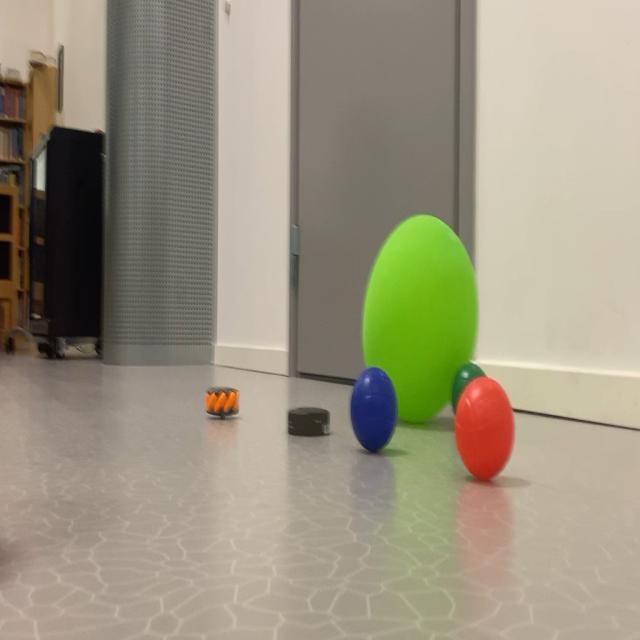blue ball: (349, 383, 396, 456)
green ball: (451, 364, 479, 376)
red ball: (455, 391, 526, 482)
